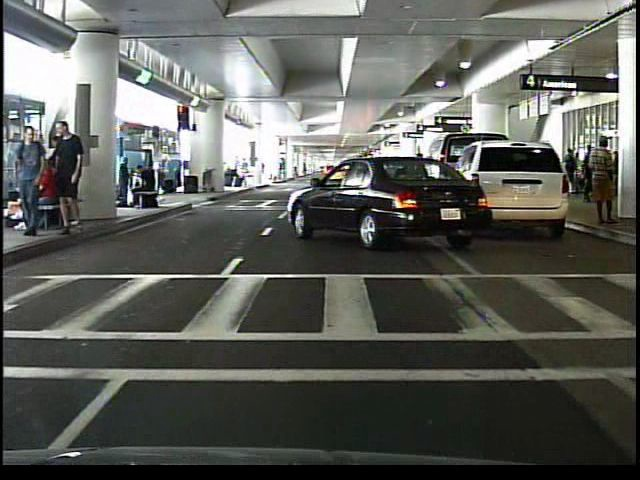person: (587, 134, 620, 230), (125, 162, 158, 212), (561, 144, 580, 182)
